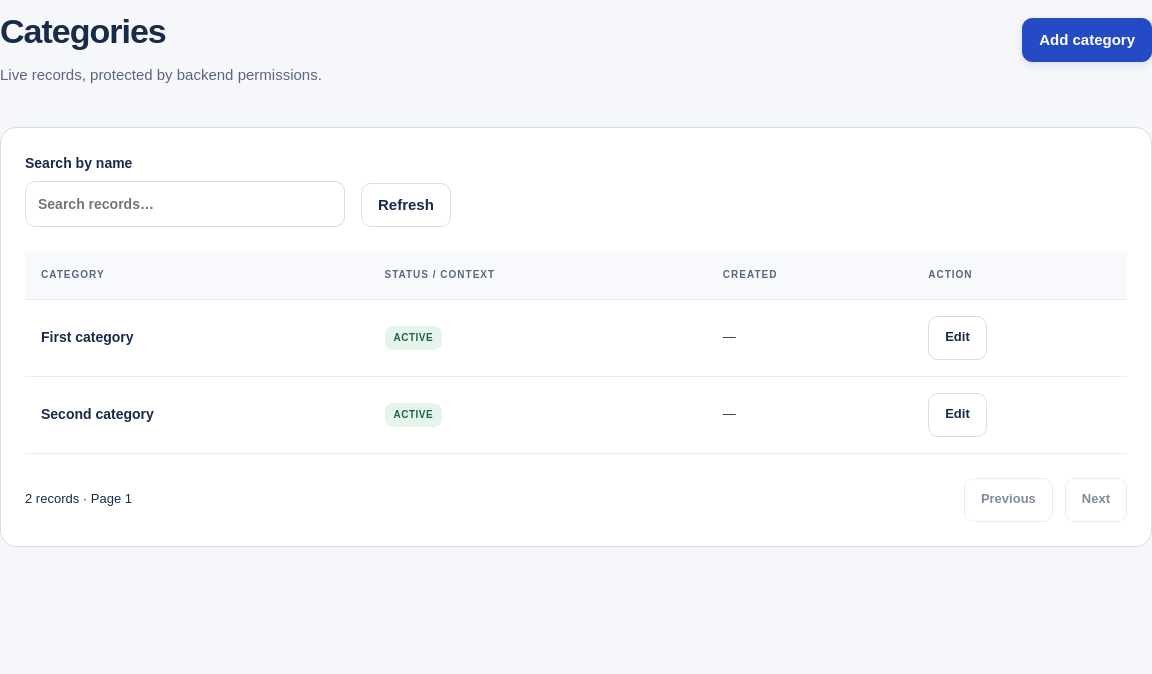
Test case: record lifecycle regressions › switching category editors resets values for the new record
The image size is (1152, 674).
Expected: the text "First category" is shown, [41,329,134,345]
Click the button "Edit" in the row of "First category". click: (958, 338)
box: [928,316,987,360]
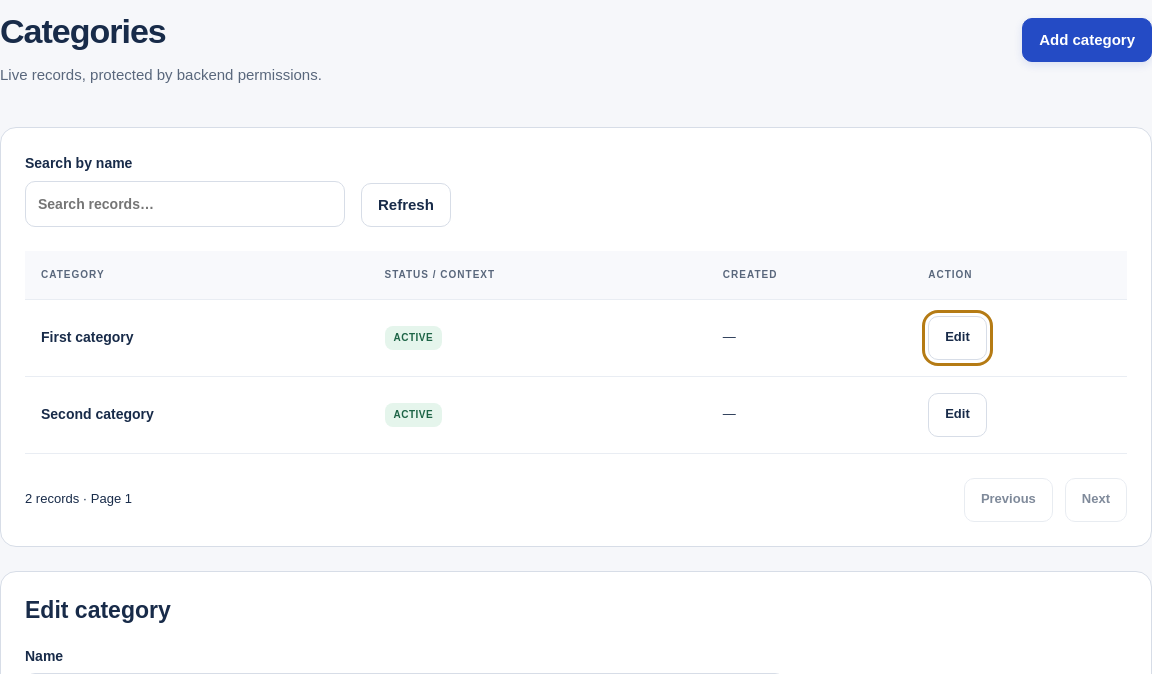
Click the button "Edit" in the row of "Second category". click: (958, 415)
box: [928,393,987,437]
(page scrolled)
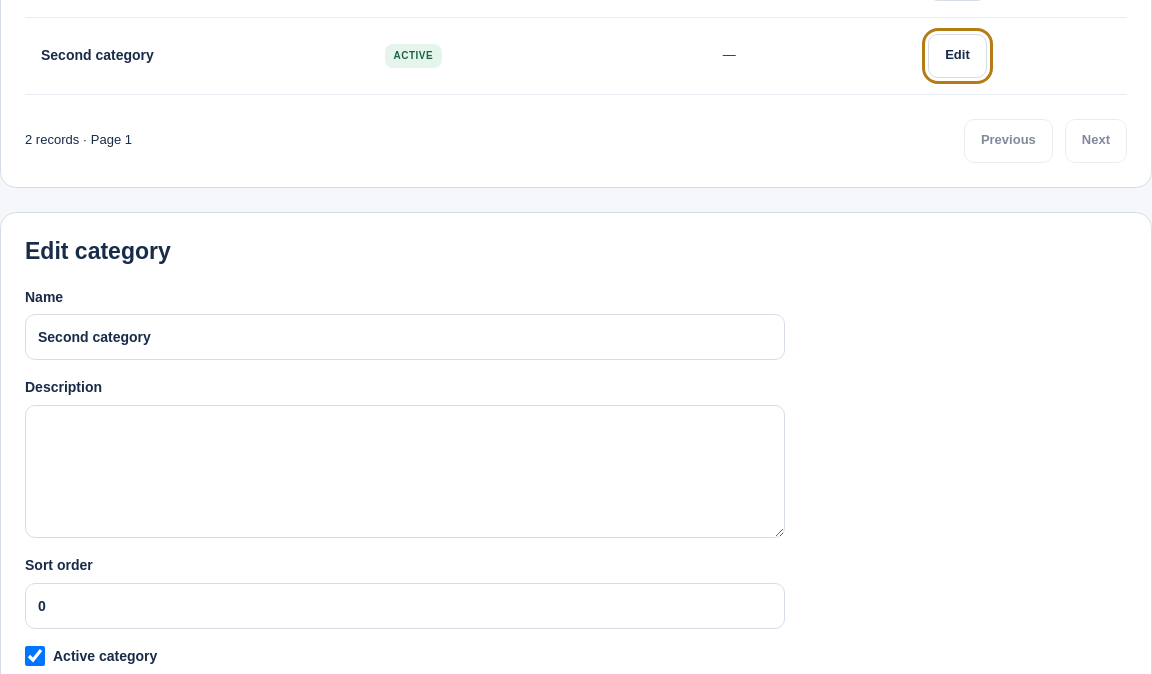
Result: the field labelled "Name" holds "Second category" at [25,314,785,360]
